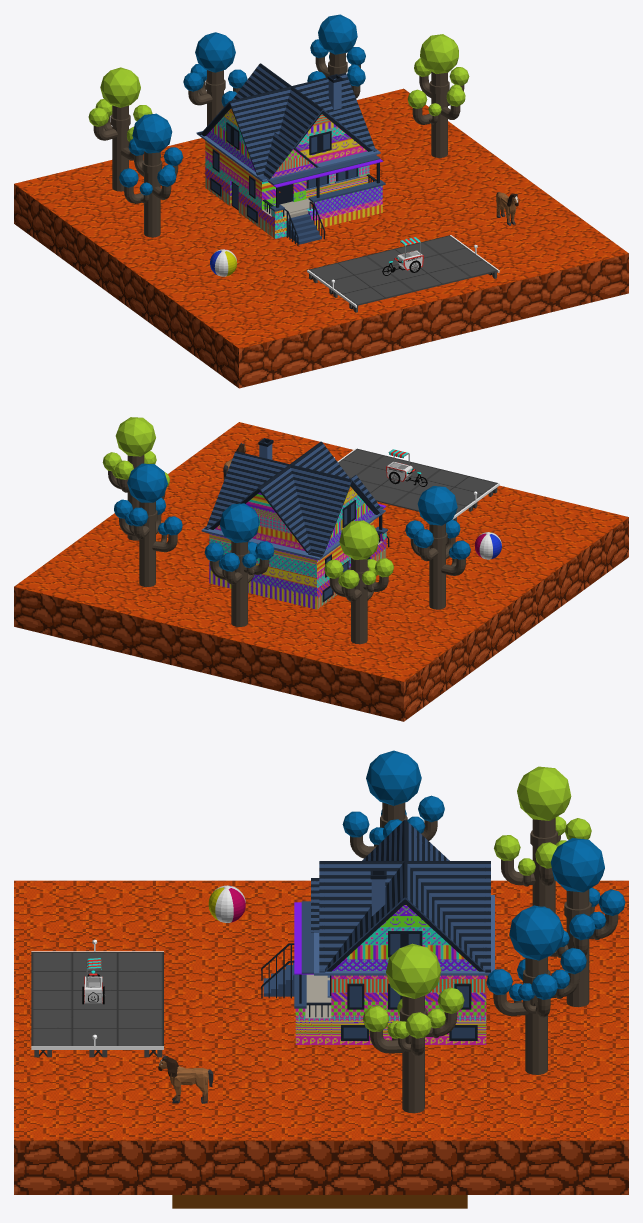
3 views of the same model, one above another, from view 1: azimuth 30°, elevation 25°; view 2: azimuth 150°, elevation 25°; view 3: azimuth 270°, elevation 25° (orthographic). The views are drawn at different scales.
Parts seen in each view (by area): view 1: Cube.001, Cube.676, VEHICLES_SNOWBAL_BIKE, OBJRANDOM_BEACHBALL, ANIMAL_CABALLO; view 2: Cube.001, Cube.676, VEHICLES_SNOWBAL_BIKE, OBJRANDOM_BEACHBALL; view 3: Cube.001, Cube.676, UNDERGROUND_ART_PIECE_VAN_GOGH, ANIMAL_CABALLO, OBJRANDOM_BEACHBALL, VEHICLES_SNOWBAL_BIKE.
Part boxes in pixels (<box>): Cube.001: <box>14,14,628,388</box>; Cube.676: <box>196,63,385,245</box>; VEHICLES_SNOWBAL_BIKE: <box>382,237,423,275</box>; OBJRANDOM_BEACHBALL: <box>210,249,237,276</box>; ANIMAL_CABALLO: <box>496,192,518,225</box>; Cube.001: <box>14,417,628,721</box>; Cube.676: <box>201,438,389,609</box>; VEHICLES_SNOWBAL_BIKE: <box>386,449,427,486</box>; OBJRANDOM_BEACHBALL: <box>474,532,501,559</box>; Cube.001: <box>14,750,628,1194</box>; Cube.676: <box>261,820,494,1044</box>; UNDERGROUND_ART_PIECE_VAN_GOGH: <box>172,1195,467,1208</box>; ANIMAL_CABALLO: <box>158,1055,213,1103</box>; OBJRANDOM_BEACHBALL: <box>208,885,245,922</box>; VEHICLES_SNOWBAL_BIKE: <box>81,958,105,1004</box>.
Bounding box in the file's own units: 4000 × 1789 × 4000.
38 materials, 9 textured.
